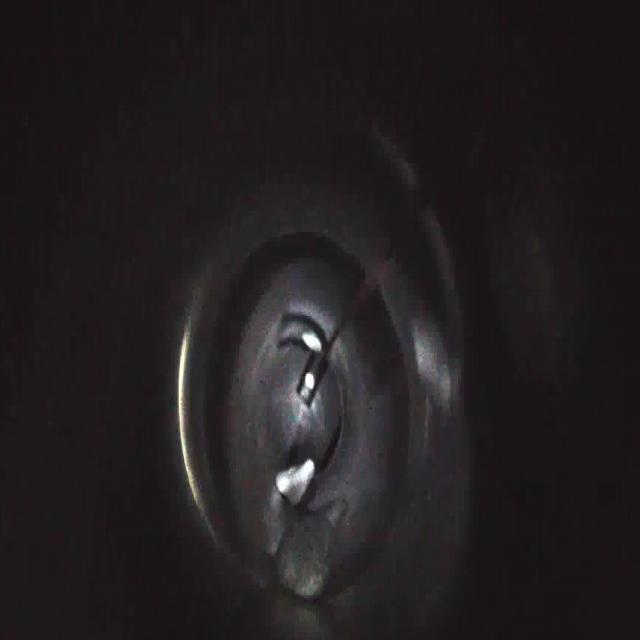impurity: (275, 508, 340, 605), (274, 456, 320, 507)
